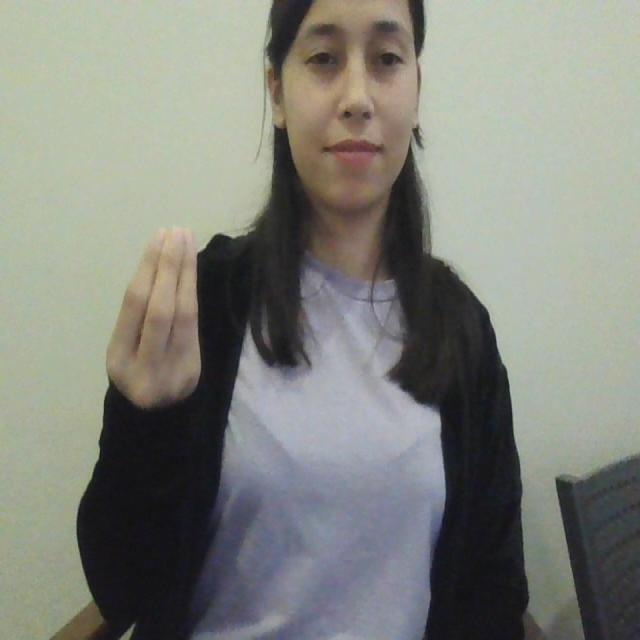iyi: (100, 219, 206, 417)
